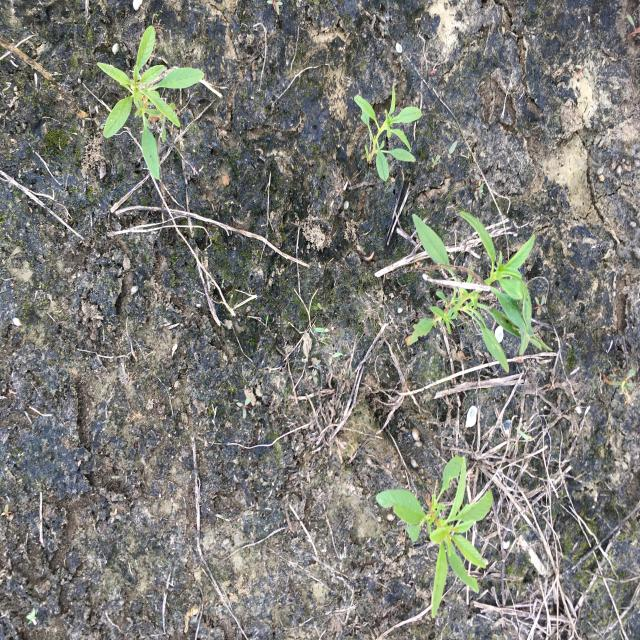Waterhemp: (404, 210, 554, 375), (375, 455, 494, 621), (96, 23, 206, 180), (353, 84, 423, 182)
